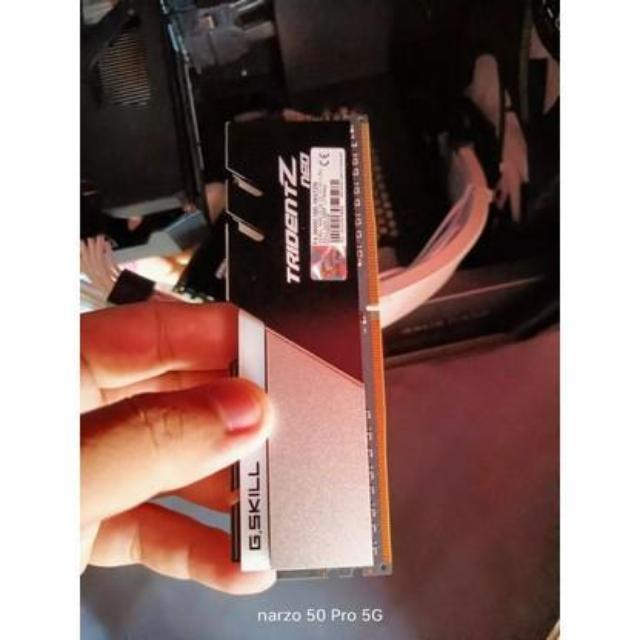RAM: (220, 110, 394, 582)
